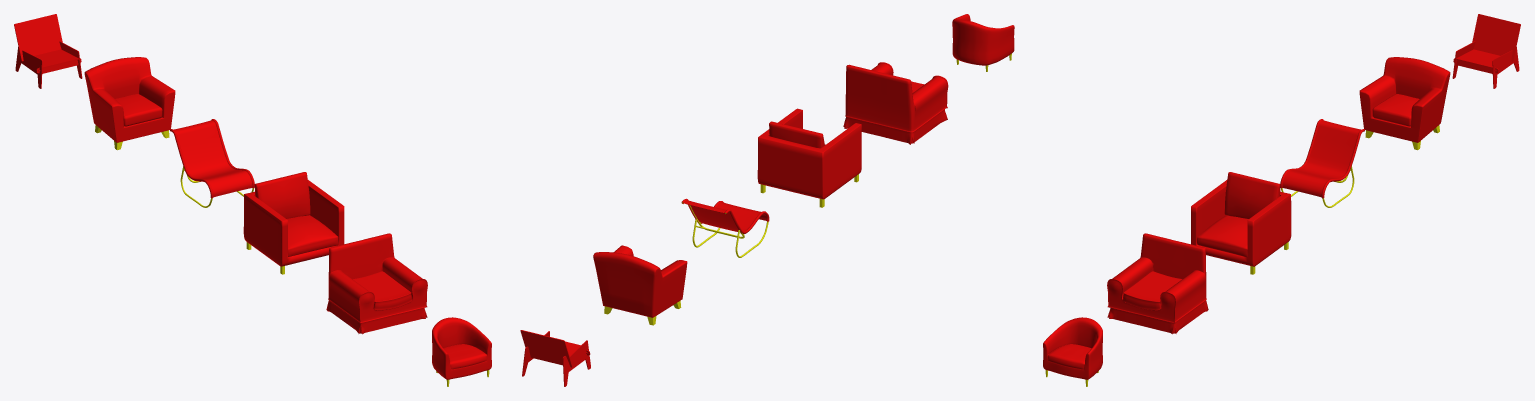
The model's file is RoboTHOR_armchairs_grp.fbx.
3 views of the same model, side by side, from view 1: azimuth 30°, elevation 25°; view 2: azimuth 150°, elevation 25°; view 3: azimuth 330°, elevation 25° (orthographic). The views are drawn at different scales.
Visible parts, largest first — view 1: robothor_armchair_ektorp, robothor_armchair_karlstad, robothor_armchair_ekenas, robothor_armchair_emmabo, robothor_armchair_tullsta, robothor_armchair_overallt; view 2: robothor_armchair_karlstad, robothor_armchair_ektorp, robothor_armchair_ekenas, robothor_armchair_tullsta, robothor_armchair_emmabo, robothor_armchair_overallt; view 3: robothor_armchair_ektorp, robothor_armchair_karlstad, robothor_armchair_ekenas, robothor_armchair_emmabo, robothor_armchair_tullsta, robothor_armchair_overallt.
Part boxes in pixels (bbox=[...]): robothor_armchair_ektorp: bbox=[326, 233, 427, 334]; robothor_armchair_karlstad: bbox=[243, 172, 344, 274]; robothor_armchair_ekenas: bbox=[84, 57, 175, 150]; robothor_armchair_emmabo: bbox=[170, 119, 254, 207]; robothor_armchair_tullsta: bbox=[432, 317, 491, 386]; robothor_armchair_overallt: bbox=[14, 14, 82, 88]; robothor_armchair_karlstad: bbox=[757, 108, 861, 207]; robothor_armchair_ektorp: bbox=[843, 62, 948, 144]; robothor_armchair_ekenas: bbox=[593, 245, 687, 325]; robothor_armchair_tullsta: bbox=[952, 14, 1014, 71]; robothor_armchair_emmabo: bbox=[681, 198, 769, 257]; robothor_armchair_overallt: bbox=[520, 330, 590, 386]; robothor_armchair_ektorp: bbox=[1107, 233, 1208, 334]; robothor_armchair_karlstad: bbox=[1191, 172, 1291, 274]; robothor_armchair_ekenas: bbox=[1359, 57, 1450, 150]; robothor_armchair_emmabo: bbox=[1280, 119, 1364, 207]; robothor_armchair_tullsta: bbox=[1043, 317, 1102, 386]; robothor_armchair_overallt: bbox=[1452, 14, 1520, 88].
Bounding box in the file's own units: 97.49 × 89.85 × 1063.
